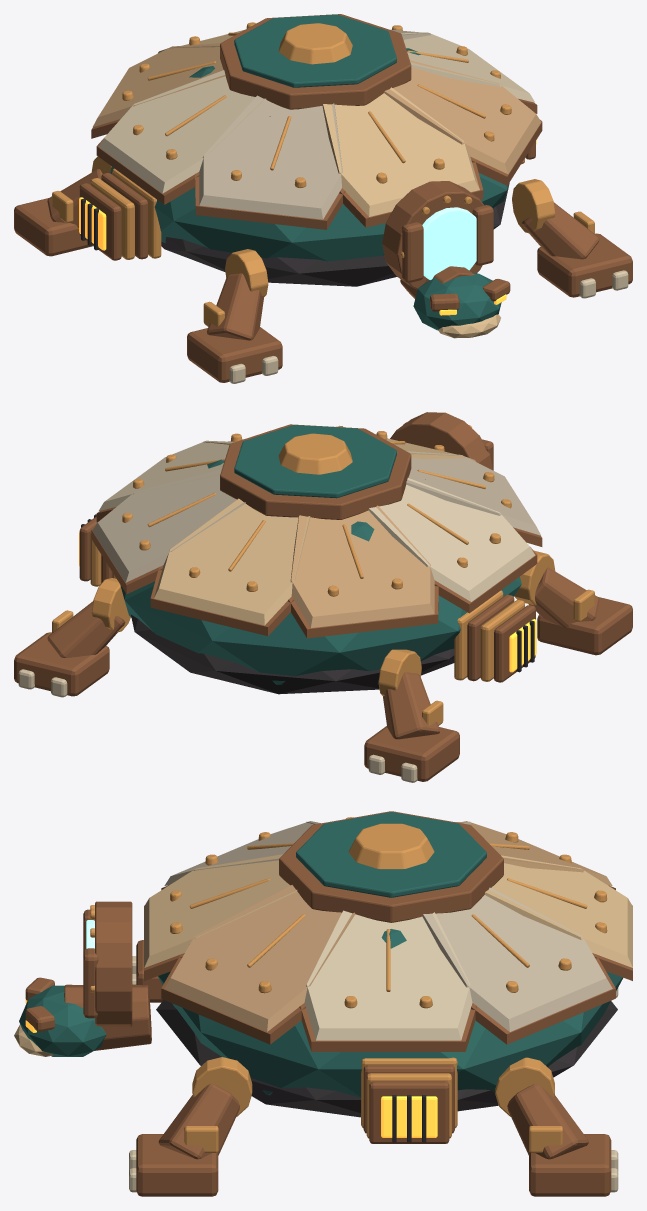
The model's file is Kilnback_Custodian.glb.
3 renders of one model, top to bottom at view 1: azimuth 30°, elevation 25°; view 2: azimuth 150°, elevation 25°; view 3: azimuth 270°, elevation 25°, orthographic. The views are drawn at different scales.
Visible parts, largest first — view 1: Animated Body Geometry, Shell Plate 8 Geometry, Shell Plate 1 Geometry, Shell Plate 7 Geometry, Shell Plate 2 Geometry, Leg 2 Geometry, Leg 4 Geometry, Bellows Left Geometry, Head Geometry, Shell Plate 6 Geometry, Leg 1 Geometry, Shell Plate 3 Geometry (+4 smaller); view 2: Animated Body Geometry, Shell Plate 6 Geometry, Shell Plate 5 Geometry, Shell Plate 7 Geometry, Shell Plate 4 Geometry, Leg 1 Geometry, Leg 3 Geometry, Leg 2 Geometry, Bellows Left Geometry, Shell Plate 8 Geometry, Shell Plate 3 Geometry, Bellows Right Geometry (+2 smaller); view 3: Animated Body Geometry, Shell Plate 3 Geometry, Shell Plate 2 Geometry, Shell Plate 4 Geometry, Leg 4 Geometry, Leg 3 Geometry, Shell Plate 1 Geometry, Shell Plate 5 Geometry, Head Geometry, Bellows Right Geometry, Shell Plate 6 Geometry, Shell Plate 8 Geometry (+3 smaller).
Boxes of the visible parts, left/top/right/bottom form: Animated Body Geometry: left=110, top=14, right=509, bottom=289; Shell Plate 8 Geometry: left=195, top=95, right=345, bottom=229; Shell Plate 1 Geometry: left=322, top=87, right=483, bottom=227; Shell Plate 7 Geometry: left=96, top=70, right=266, bottom=204; Shell Plate 2 Geometry: left=384, top=60, right=542, bottom=185; Leg 2 Geometry: left=187, top=249, right=282, bottom=383; Leg 4 Geometry: left=512, top=179, right=632, bottom=298; Bellows Left Geometry: left=79, top=168, right=161, bottom=260; Head Geometry: left=400, top=266, right=510, bottom=338; Shell Plate 6 Geometry: left=91, top=43, right=225, bottom=138; Leg 1 Geometry: left=14, top=156, right=111, bottom=256; Shell Plate 3 Geometry: left=401, top=32, right=537, bottom=113; Animated Body Geometry: left=120, top=412, right=521, bottom=694; Shell Plate 6 Geometry: left=288, top=505, right=438, bottom=638; Shell Plate 5 Geometry: left=150, top=498, right=310, bottom=635; Shell Plate 7 Geometry: left=368, top=478, right=537, bottom=613; Shell Plate 4 Geometry: left=91, top=469, right=245, bottom=594; Leg 1 Geometry: left=364, top=649, right=459, bottom=782; Leg 3 Geometry: left=14, top=578, right=130, bottom=697; Leg 2 Geometry: left=514, top=550, right=632, bottom=655; Bellows Left Geometry: left=454, top=590, right=535, bottom=682; Shell Plate 8 Geometry: left=406, top=451, right=542, bottom=546; Shell Plate 3 Geometry: left=96, top=440, right=234, bottom=522; Bellows Right Geometry: left=79, top=514, right=116, bottom=586; Animated Body Geometry: left=90, top=811, right=622, bottom=1117; Shell Plate 3 Geometry: left=299, top=910, right=476, bottom=1051; Shell Plate 2 Geometry: left=161, top=885, right=355, bottom=1044; Shell Plate 4 Geometry: left=422, top=887, right=615, bottom=1044; Leg 4 Geometry: left=129, top=1057, right=252, bottom=1196; Leg 3 Geometry: left=495, top=1057, right=618, bottom=1196; Shell Plate 1 Geometry: left=144, top=854, right=297, bottom=980; Shell Plate 5 Geometry: left=484, top=855, right=632, bottom=980; Head Geometry: left=14, top=977, right=151, bottom=1056; Bellows Right Geometry: left=361, top=1057, right=457, bottom=1143; Shell Plate 6 Geometry: left=459, top=821, right=615, bottom=889; Shell Plate 8 Geometry: left=161, top=821, right=320, bottom=889.
Bounding box in the file's own units: 11.64 × 5.51 × 12.51.
